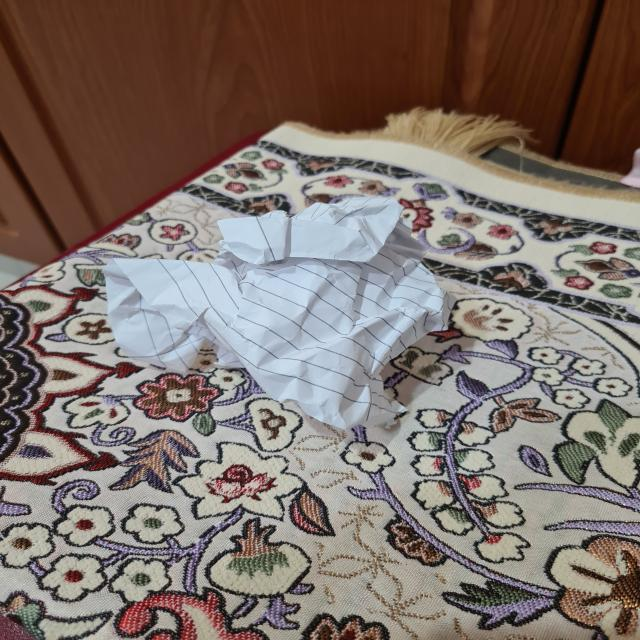Paper: (101, 198, 453, 432)
